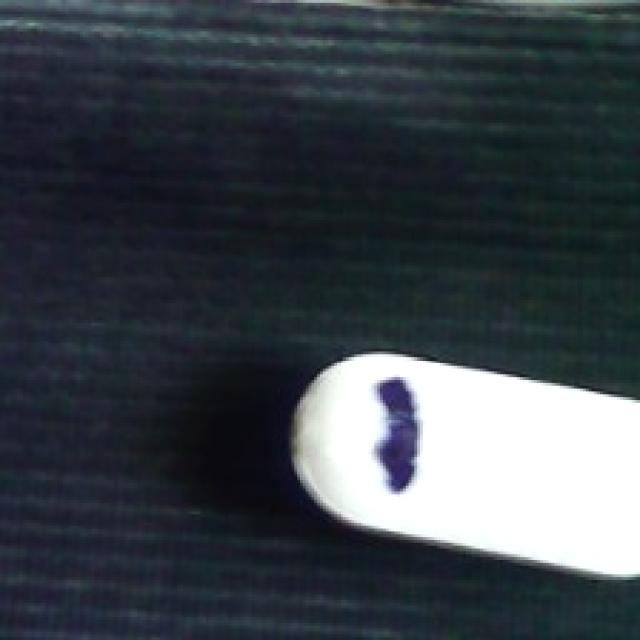defected: (280, 346, 640, 587)
